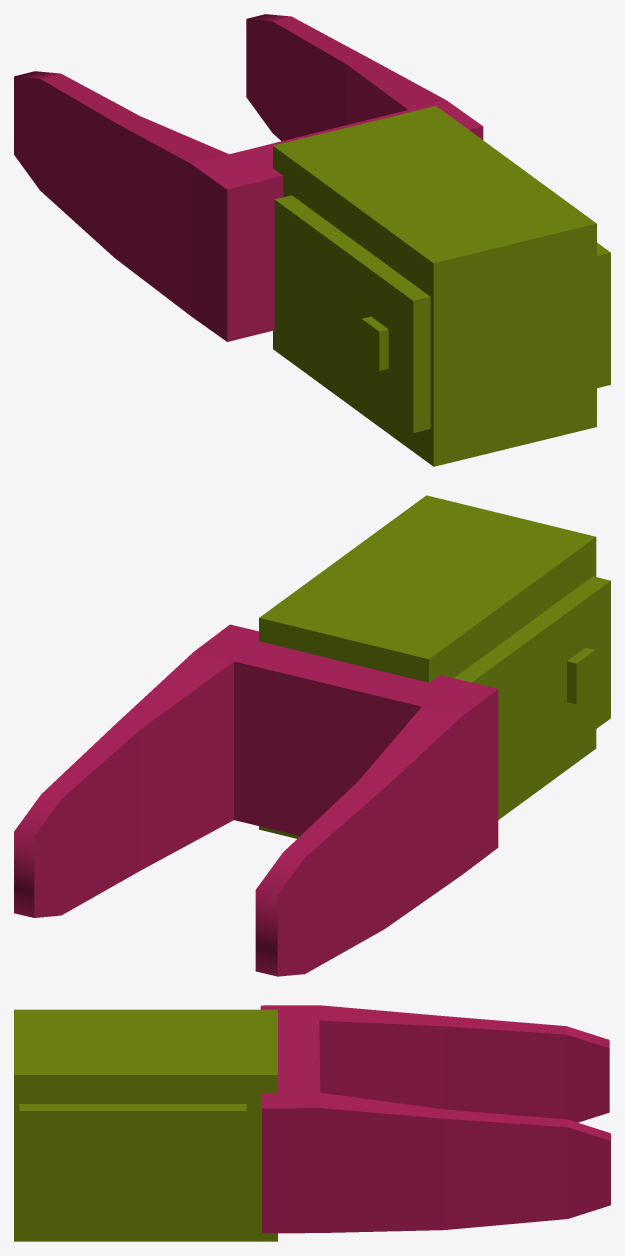
The model's file is part_21_opt_2.obj.
3 views of the same model, one above another, from view 1: azimuth 30°, elevation 25°; view 2: azimuth 150°, elevation 25°; view 3: azimuth 270°, elevation 25° (orthographic). The views are drawn at different scales.
Visible parts, largest first — view 1: Box017, Box019; view 2: Box019, Box017; view 3: Box019, Box017.
Boxes of the visible parts, x1,y1,x2,y2 form: Box017: [273, 106, 610, 466]; Box019: [14, 14, 483, 341]; Box019: [14, 624, 498, 976]; Box017: [259, 495, 610, 838]; Box019: [260, 1005, 610, 1233]; Box017: [14, 1009, 277, 1241].
Bounding box in the file's own units: 46.94 × 35.31 × 114.
